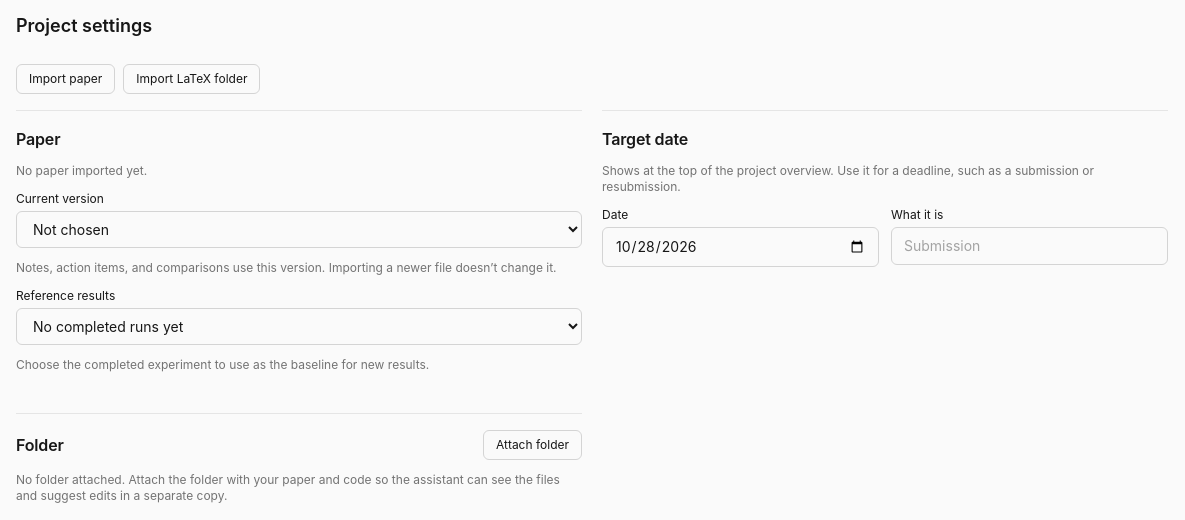
Test: does not save the digits of a year that is still being typed
Step 1. Type "0002-10-28" into the date field named "Target date" → (740, 247), box [602,227,879,267]
Wait 1000 ms
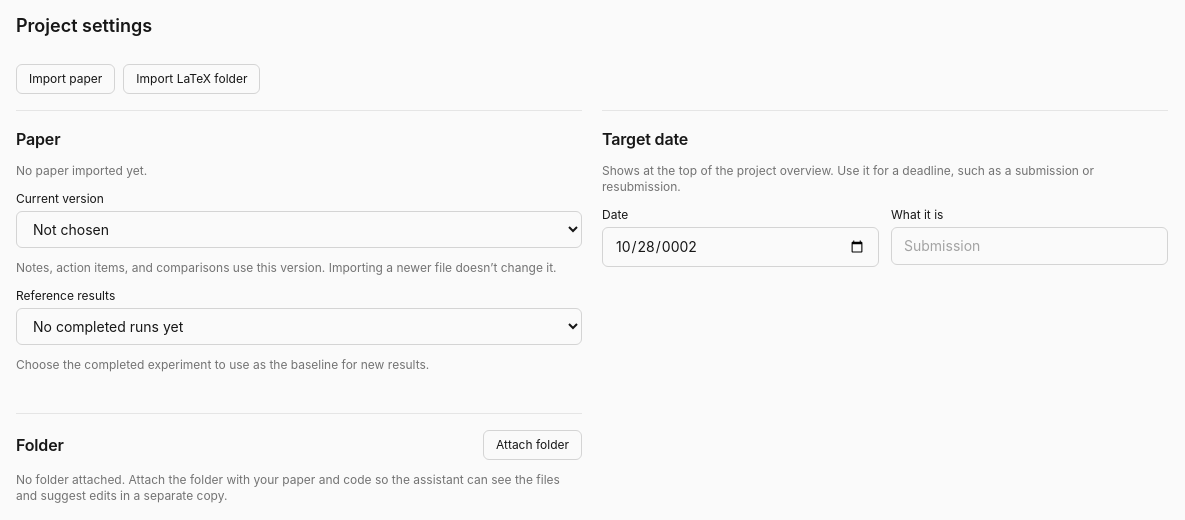
Step 2. Leave the date field named "Target date", box [602,227,879,267]
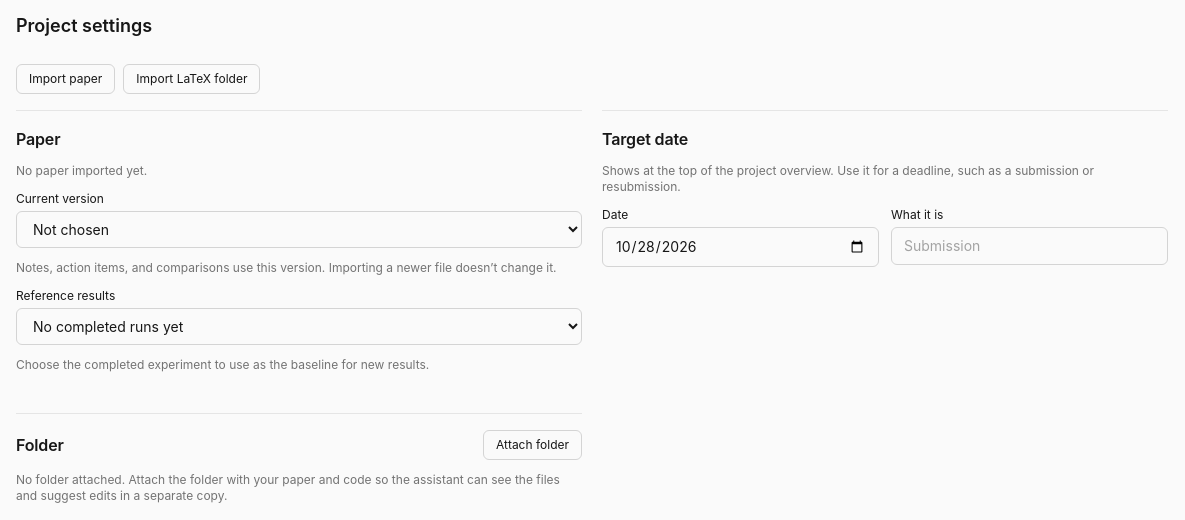
Expected: the date field named "Target date" holds "2026-10-28", [602,227,879,267]
